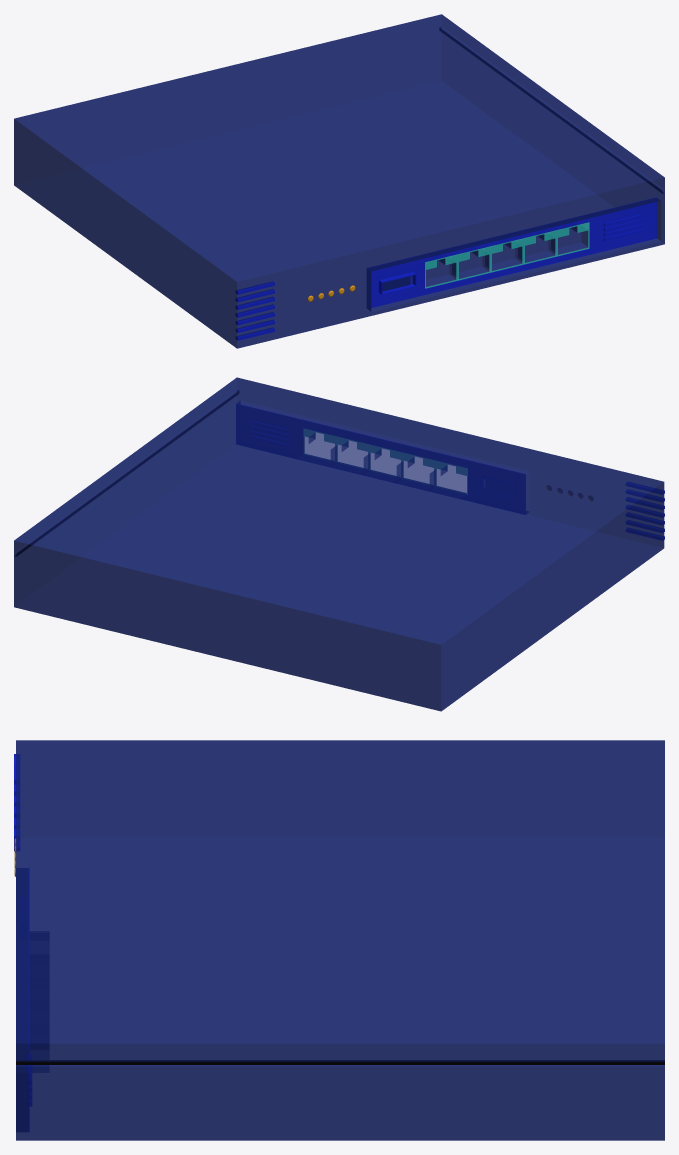
The model's file is shebei.FBX.
3 views of the same model, one above another, from view 1: azimuth 30°, elevation 25°; view 2: azimuth 150°, elevation 25°; view 3: azimuth 270°, elevation 25° (orthographic). The views are drawn at different scales.
Parts seen in each view (by area): view 1: Box198, 对象224, 对象220, 对象223; view 2: Box198, 对象224, 对象220, 对象223; view 3: Box198, 对象223, 对象224.
Boxes of the visible parts, bbox=[...] form: Box198: bbox=[14, 14, 664, 348]; 对象224: bbox=[236, 198, 657, 340]; 对象220: bbox=[425, 222, 589, 288]; 对象223: bbox=[439, 28, 662, 193]; Box198: bbox=[14, 377, 664, 711]; 对象224: bbox=[236, 404, 664, 540]; 对象220: bbox=[303, 429, 467, 494]; 对象223: bbox=[16, 391, 238, 556]; Box198: bbox=[16, 740, 664, 1140]; 对象223: bbox=[16, 1061, 664, 1064]; 对象224: bbox=[14, 754, 31, 1131].
Size of the model in its own units: 777 by 116 by 704.
